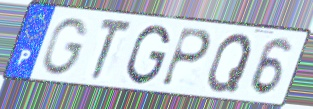6: (248, 37, 293, 98)
G: (40, 16, 91, 77), (124, 23, 172, 86)
P: (158, 26, 214, 90)
Q: (205, 31, 255, 94)
T: (89, 17, 135, 83)
